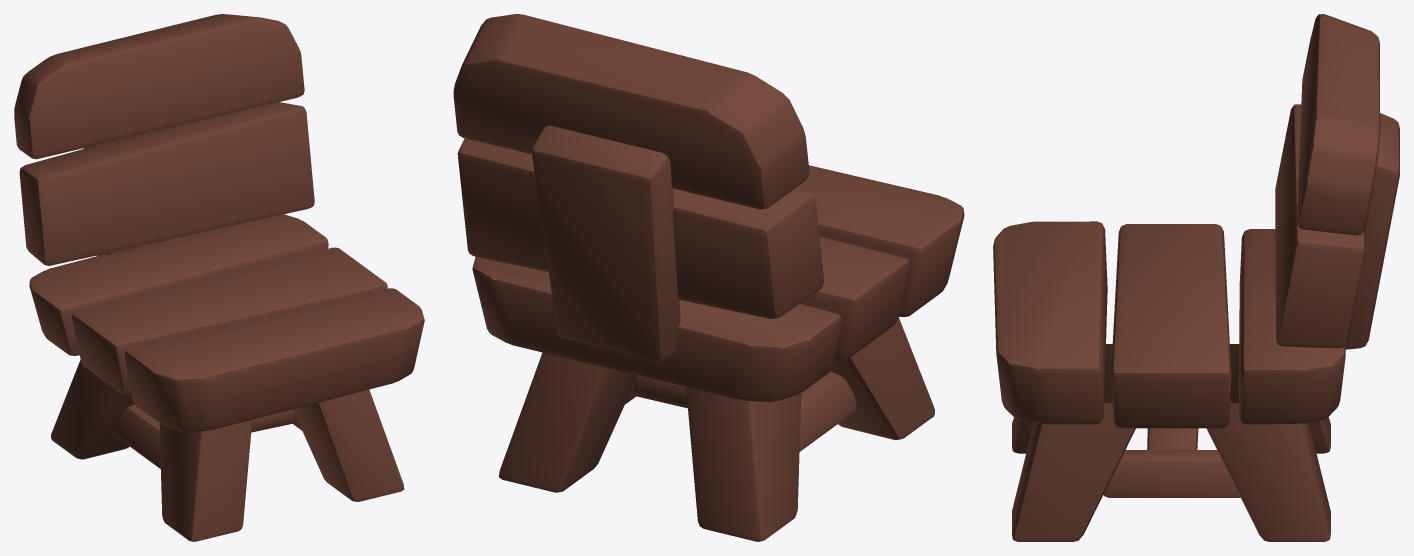
File: chair.gltf
The picture shows the model from 3 angles, left to right: view 1: azimuth 30°, elevation 25°; view 2: azimuth 150°, elevation 25°; view 3: azimuth 270°, elevation 25°; orthographic projection. The views are drawn at different scales.
Parts seen in each view (by area): view 1: chair; view 2: chair; view 3: chair.
Boxes of the visible parts, x1,y1,x2,y2 form: chair: (14,14,424,541); chair: (453,14,964,541); chair: (993,14,1399,541).
Bounding box in the file's own units: 0.7465 × 0.9909 × 0.8699.
